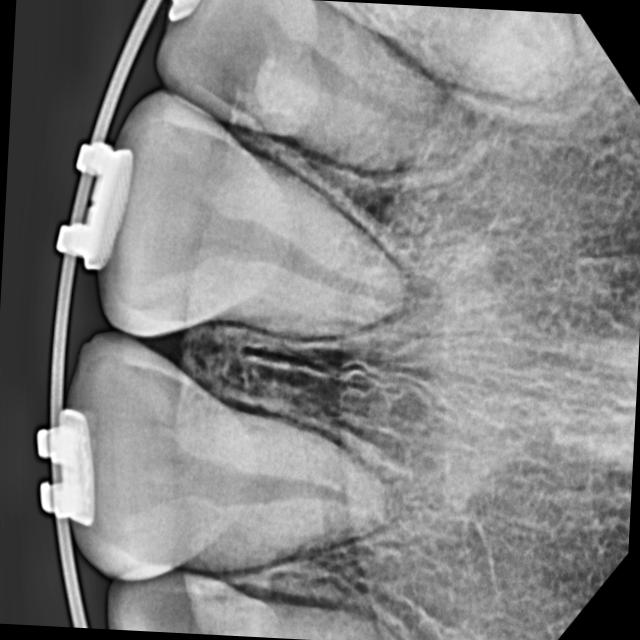Normal: (68, 328, 426, 604), (106, 108, 472, 372)
